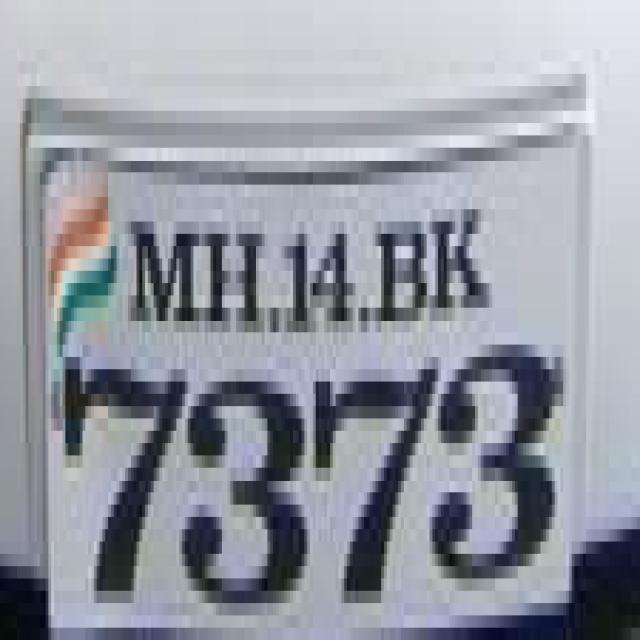license_plate: (37, 147, 626, 640)
